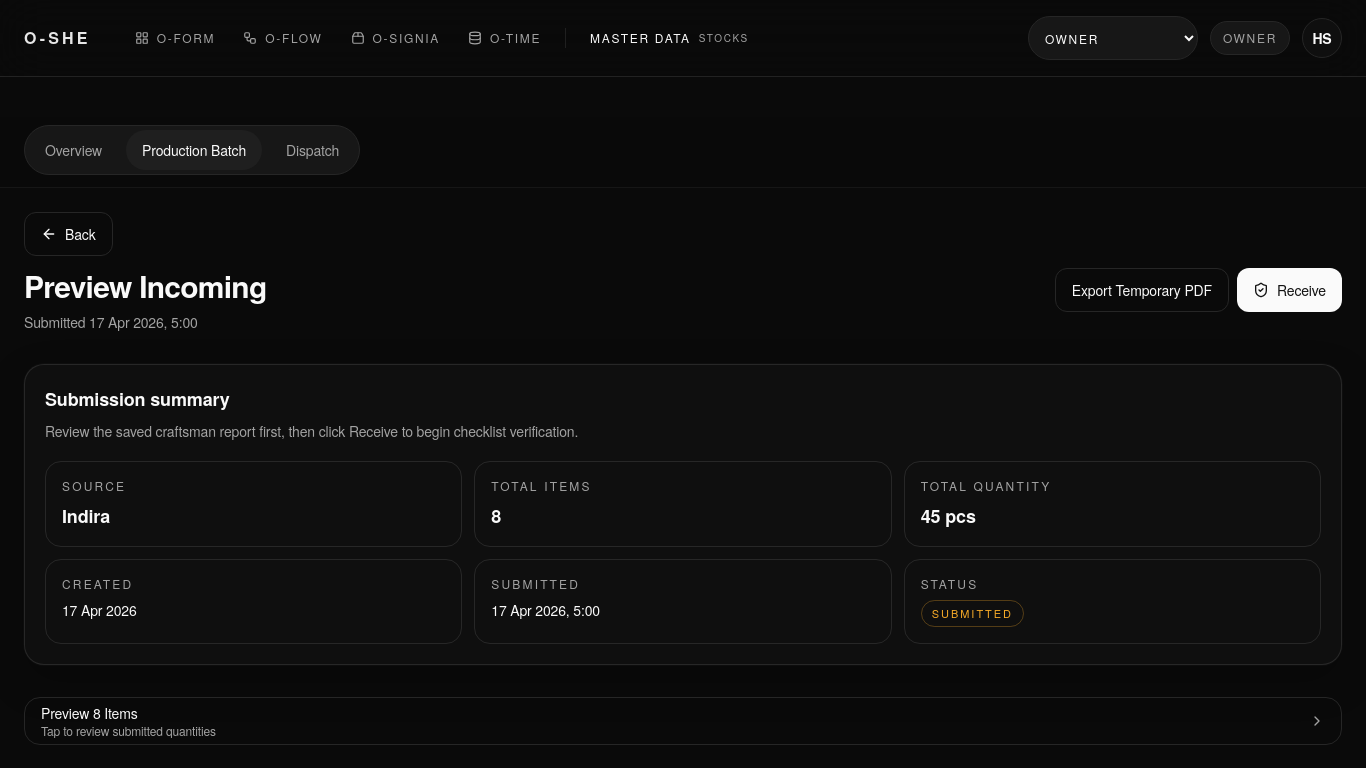
Scenario: Production Batch › keeps submitted item preview collapsed until users expand it
Expected: the text "4EVER Bracelet | Gold | Valentine's Day Edition" is not shown
Click the button "Preview 8 Items Tap to review submitted quantities" at (67, 712), box [24,696,1342,744]
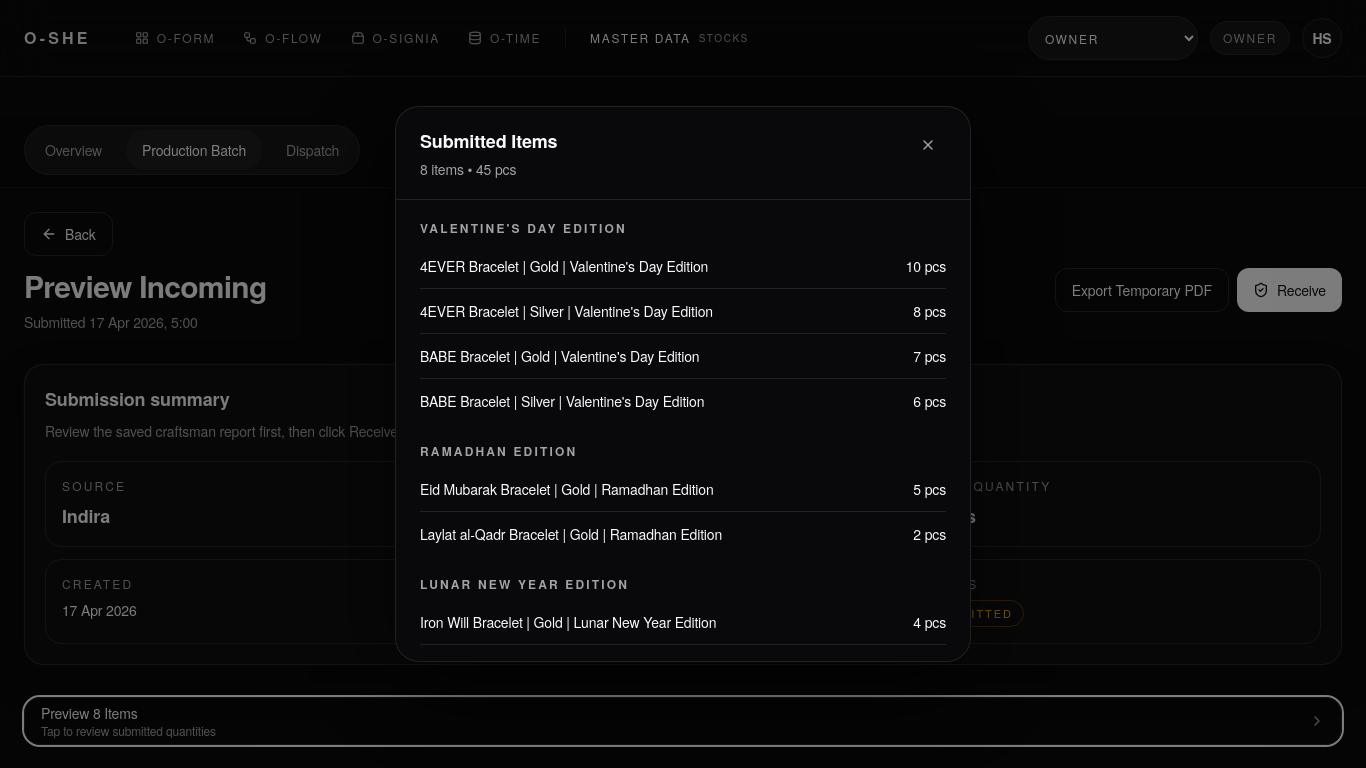
Result: the dialog "Submitted Items" is shown at [395,106,971,662]
Result: the heading "VALENTINE'S DAY EDITION" is shown at [420,219,627,237]
Result: the heading "RAMADHAN EDITION" is shown at [420,442,577,460]
